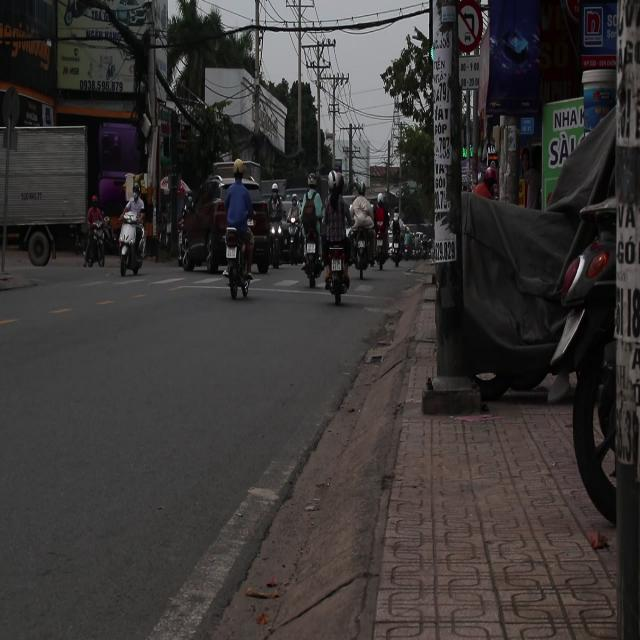car: (178, 178, 228, 274)
motorbike: (222, 223, 254, 301), (302, 207, 324, 292), (118, 220, 146, 278), (325, 244, 351, 306), (265, 191, 285, 271), (82, 210, 106, 273)
truck: (1, 118, 92, 266)
